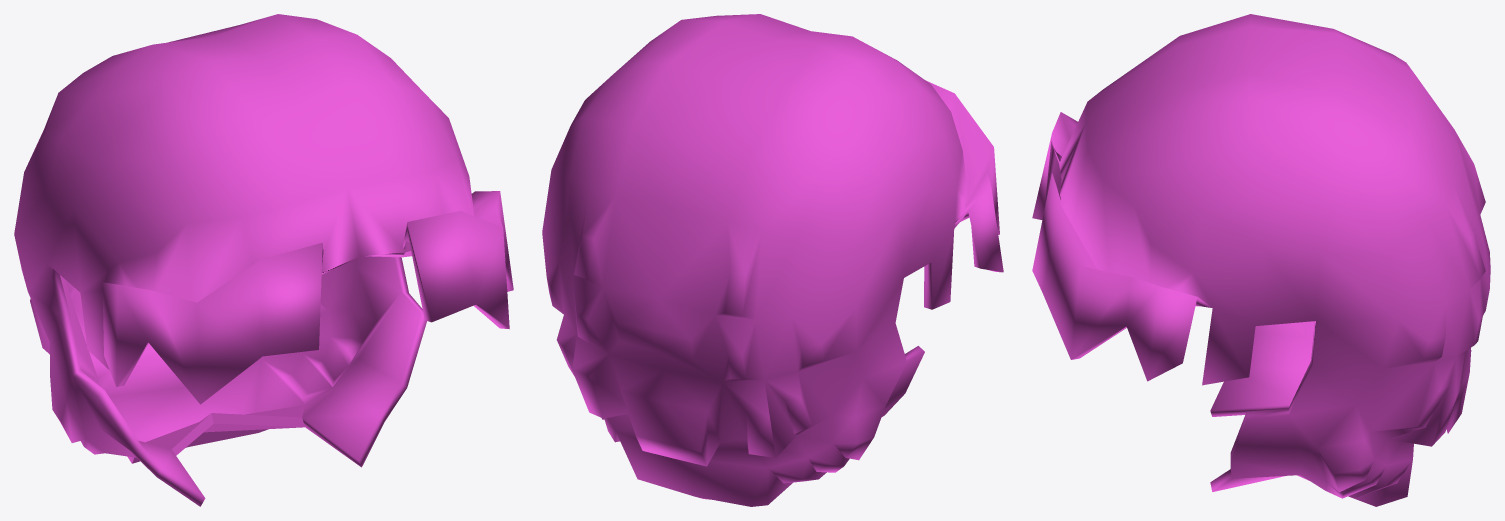
Rendered from character hair 11.fbx.
The picture shows the model from 3 angles, left to right: view 1: azimuth 30°, elevation 25°; view 2: azimuth 150°, elevation 25°; view 3: azimuth 270°, elevation 25°; orthographic projection. The views are drawn at different scales.
Parts seen in each view (by area): view 1: hair11; view 2: hair11; view 3: hair11.
Boxes of the visible parts, box(x1,y1,x2,y2) form: hair11: box(14, 14, 513, 506); hair11: box(542, 14, 1003, 506); hair11: box(1032, 14, 1490, 506).
Size of the model in its own units: 0.4272 by 0.4637 by 0.4468.
